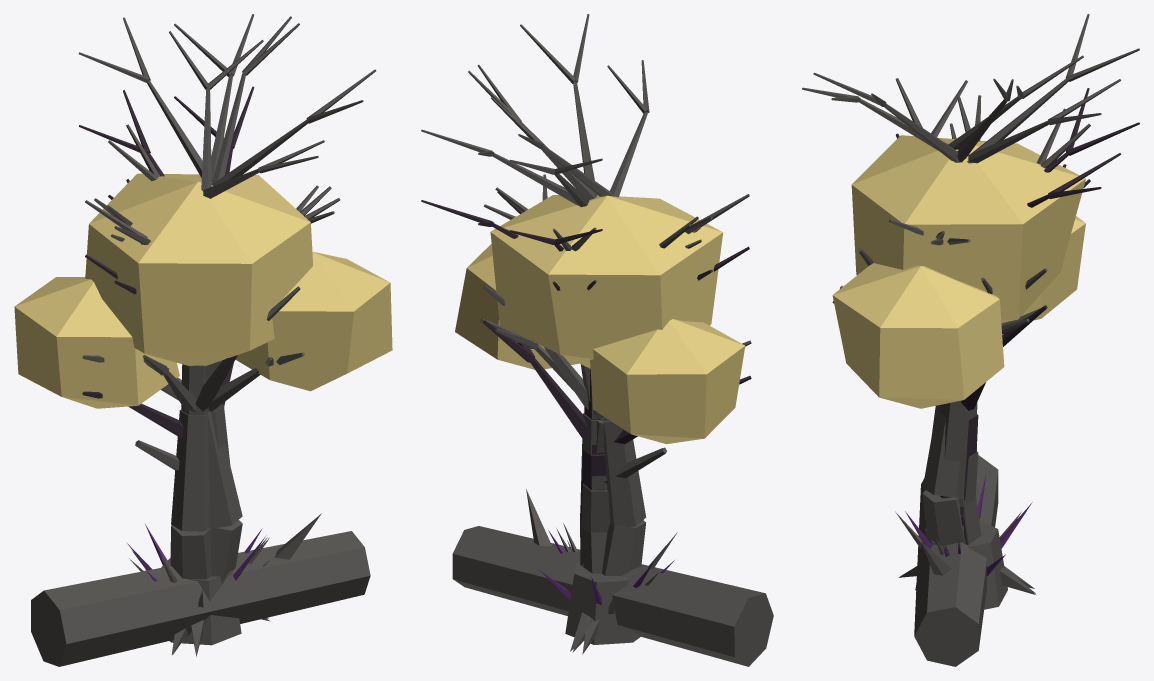
File: Env_Trees.obj
The picture shows the model from 3 angles, left to right: view 1: azimuth 30°, elevation 25°; view 2: azimuth 150°, elevation 25°; view 3: azimuth 270°, elevation 25°; orthographic projection. The views are drawn at different scales.
Parts seen in each view (by area): view 1: Env_Trees_Light_A, Env_Trees_Log, Env_Trees_Dead_B, Env_Trees_Dead_C, Env_Trees_Dead_A, Env_Trees_Dark_A, Env_Trees_Stump, Env_Trees_Bush_Thorn; view 2: Env_Trees_Light_A, Env_Trees_Log, Env_Trees_Dead_B, Env_Trees_Dead_A, Env_Trees_Dark_A, Env_Trees_Dead_C, Env_Trees_Stump, Env_Trees_Bush_Thorn; view 3: Env_Trees_Light_A, Env_Trees_Log, Env_Trees_Dead_A, Env_Trees_Dead_C, Env_Trees_Dark_A, Env_Trees_Dead_B, Env_Trees_Stump, Env_Trees_Bush_Thorn.
Boxes of the visible parts, x1,y1,x2,y2 form: Env_Trees_Light_A: (14,173,392,470); Env_Trees_Log: (31,513,370,666); Env_Trees_Dead_B: (94,31,340,656); Env_Trees_Dead_C: (111,16,376,654); Env_Trees_Dead_A: (79,14,268,654); Env_Trees_Dark_A: (79,86,254,436); Env_Trees_Stump: (161,557,241,645); Env_Trees_Bush_Thorn: (126,524,267,581); Env_Trees_Light_A: (455,195,745,532); Env_Trees_Log: (452,489,773,666); Env_Trees_Dead_B: (484,60,698,652); Env_Trees_Dead_A: (421,129,751,651); Env_Trees_Dark_A: (421,200,751,519); Env_Trees_Dead_C: (468,14,701,654); Env_Trees_Stump: (565,563,640,644); Env_Trees_Bush_Thorn: (537,530,674,604); Env_Trees_Light_A: (832,135,1085,543); Env_Trees_Log: (914,455,998,666); Env_Trees_Dead_A: (895,14,1139,594); Env_Trees_Dead_C: (813,72,1040,588); Env_Trees_Dark_A: (896,88,1139,544); Env_Trees_Dead_B: (802,55,1083,593); Env_Trees_Stump: (915,519,1007,609); Env_Trees_Bush_Thorn: (905,474,1032,576).
Size of the model in its own units: 2.66 by 4.7 by 2.48.
